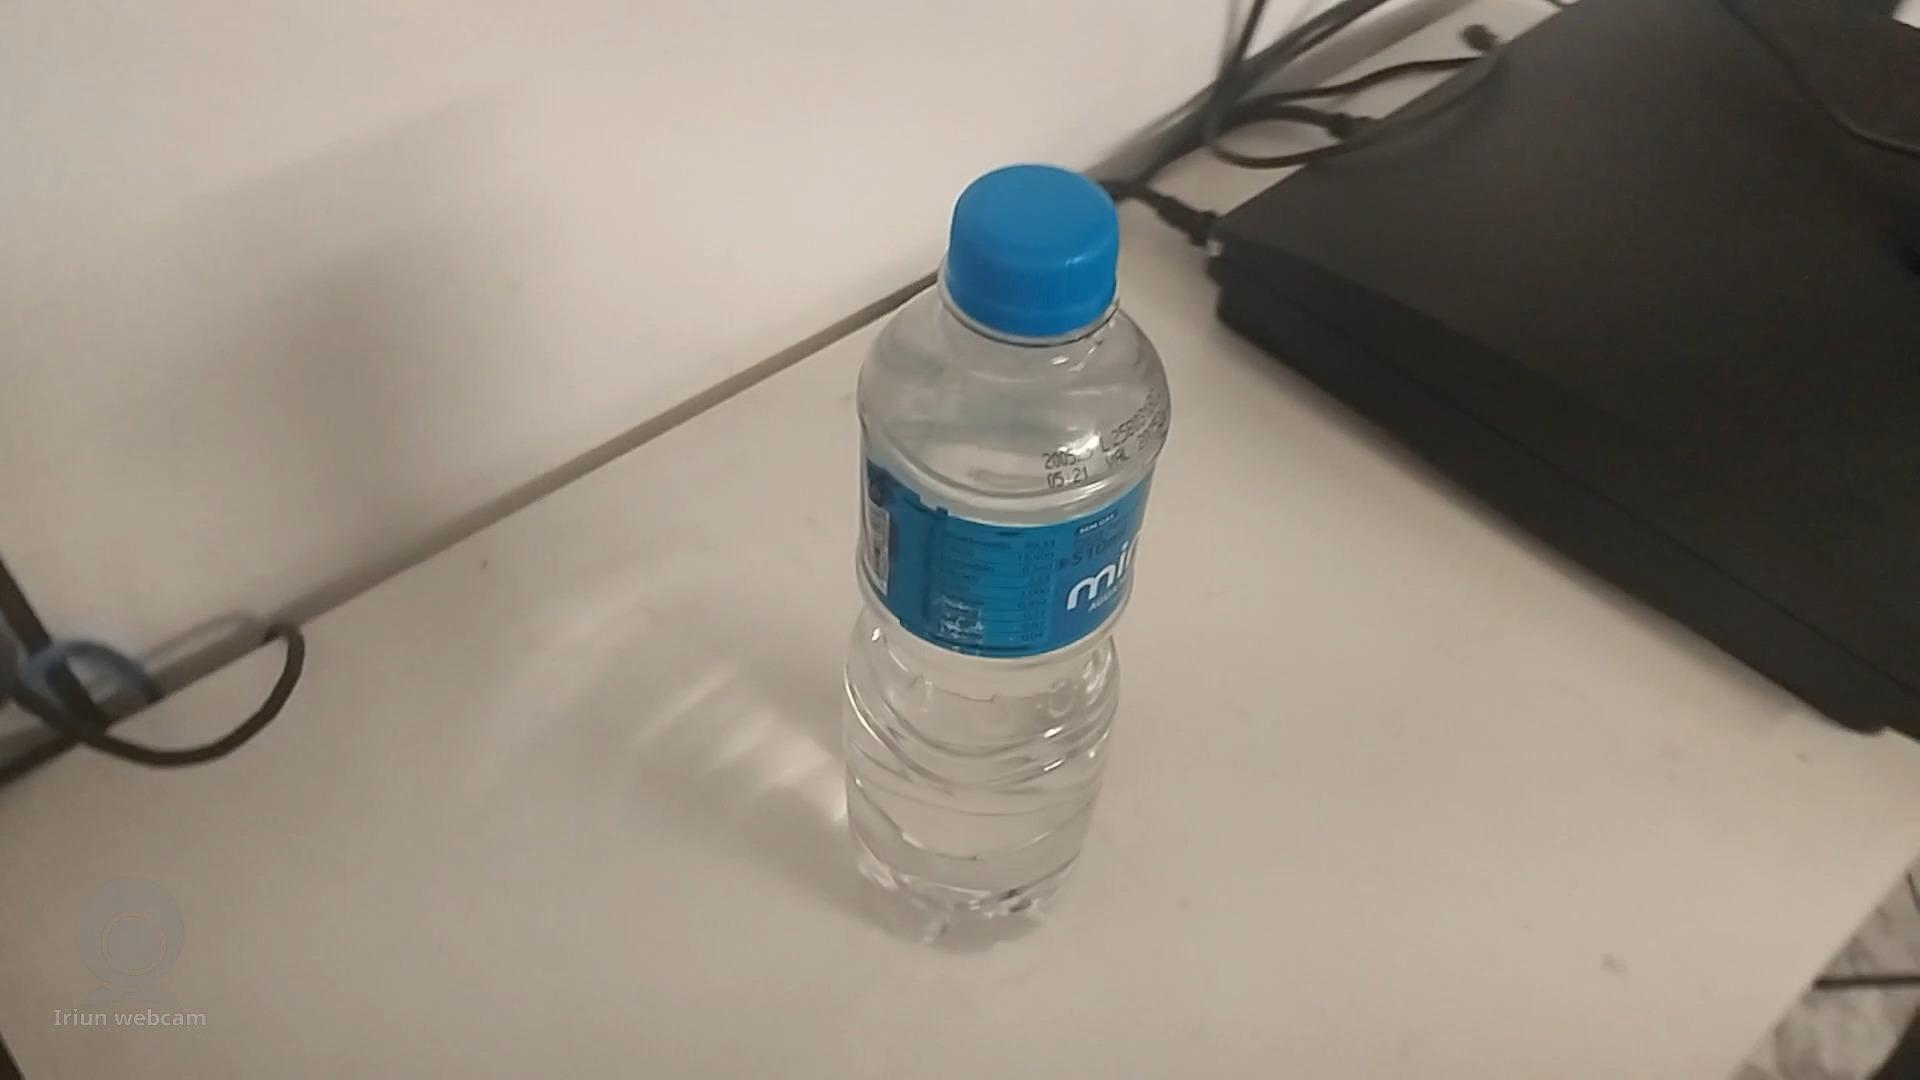agua: (849, 161, 1164, 927)
